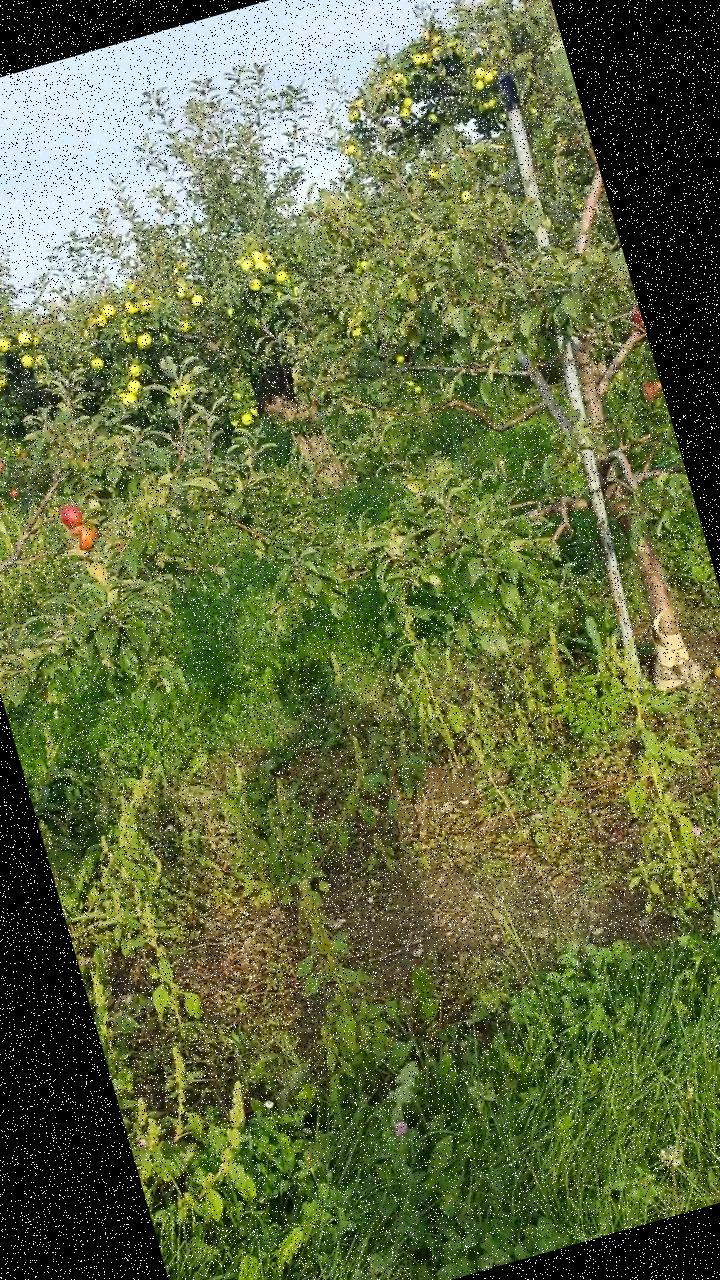Apple: (66, 518, 104, 552), (56, 498, 84, 528), (642, 376, 664, 406), (626, 303, 644, 330)
